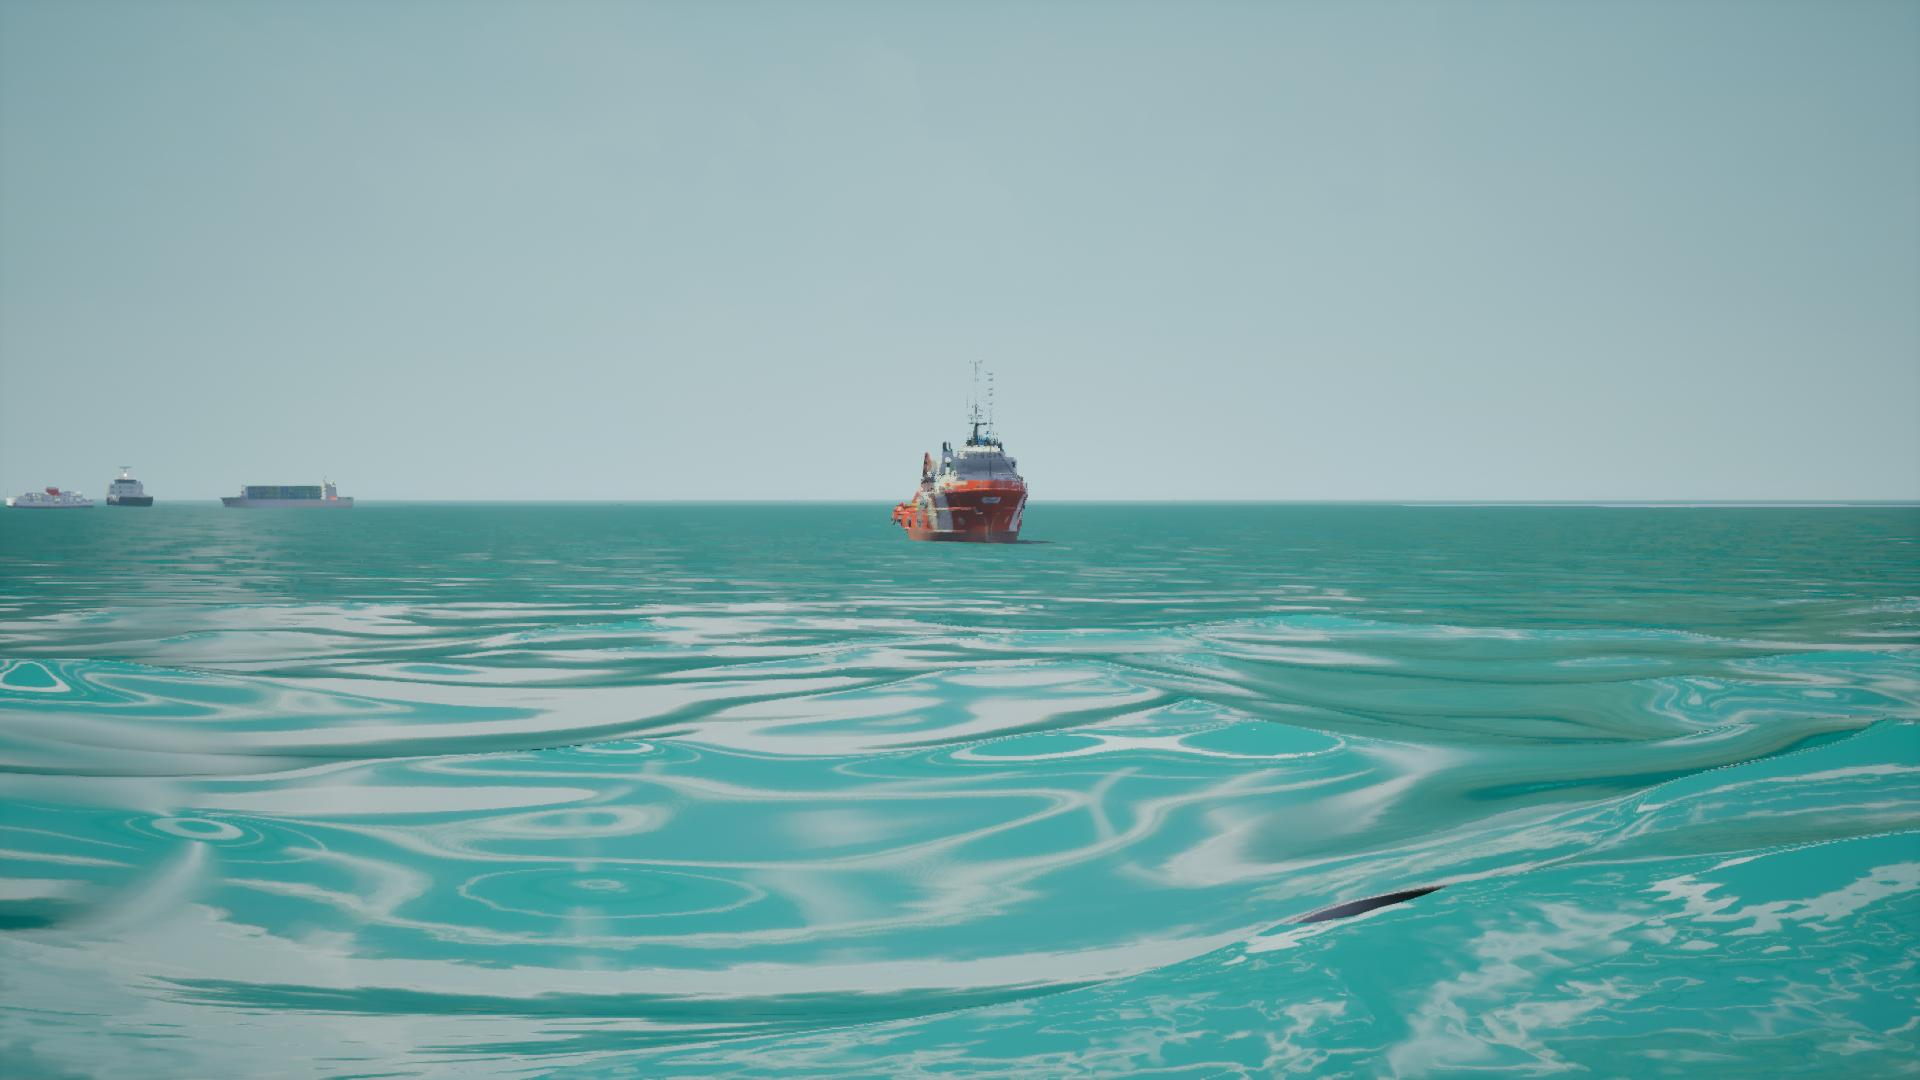Tug Boat: (894, 361, 1031, 543)
